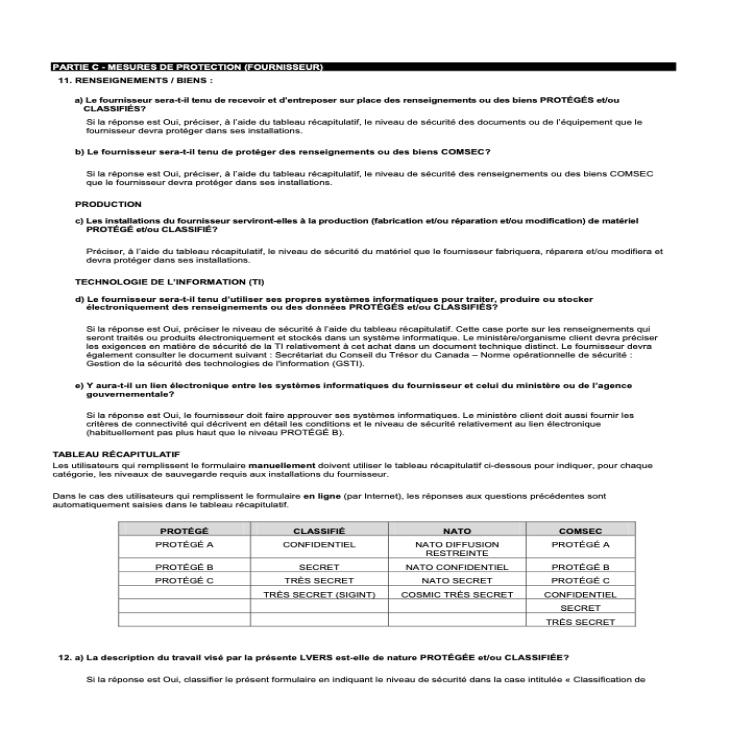cell: (388, 536, 529, 558), (249, 536, 389, 558), (117, 536, 252, 558), (525, 536, 636, 558), (250, 571, 390, 586), (522, 611, 640, 628), (249, 558, 390, 572), (387, 558, 528, 572), (388, 586, 529, 599), (250, 586, 390, 599), (116, 558, 252, 571), (119, 573, 252, 586), (524, 586, 637, 601), (388, 573, 527, 585), (523, 599, 641, 613), (526, 572, 637, 586), (525, 559, 638, 572)
head: (252, 520, 389, 537), (387, 520, 528, 536), (117, 520, 254, 536), (527, 521, 636, 535)
tabulation: (103, 517, 642, 632)
